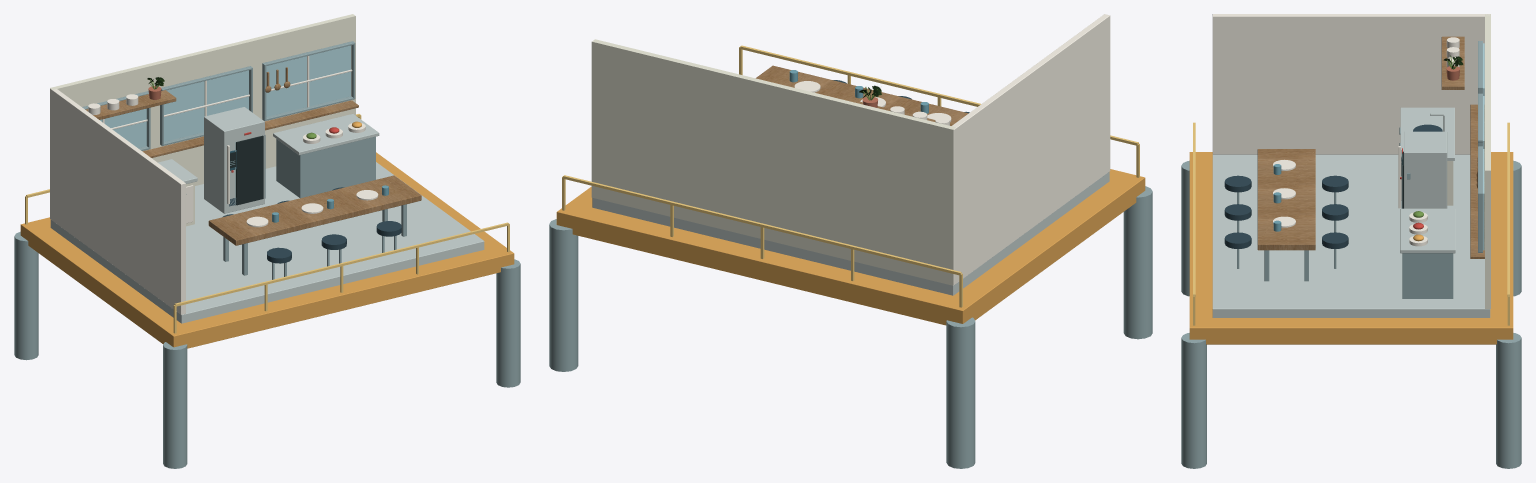
The model's file is interior-oil-rig.glb.
The picture shows the model from 3 angles, left to right: view 1: azimuth 30°, elevation 25°; view 2: azimuth 150°, elevation 25°; view 3: azimuth 270°, elevation 25°; orthographic projection. The views are drawn at different scales.
Parts seen in each view (by area): view 1: room__silver, room__white, room__steel, room__orange, room__chalk, room__glass-light, room__wood, room__yellow, room__black, room__dark; view 2: room__chalk, room__white, room__orange, room__steel, room__silver, room__yellow, room__wood; view 3: room__white, room__silver, room__orange, room__steel, room__wood, room__dark, room__chalk, room__yellow, room__glass-light.
Part boxes in pixels (left/top/right/bottom): room__silver: left=50, top=107, right=484, bottom=323; room__white: left=50, top=56, right=378, bottom=314; room__steel: left=14, top=41, right=520, bottom=468; room__orange: left=20, top=121, right=514, bottom=348; room__chalk: left=50, top=14, right=355, bottom=226; room__glass-light: left=100, top=45, right=350, bottom=165; room__wood: left=85, top=67, right=421, bottom=245; room__yellow: left=25, top=114, right=509, bottom=333; room__black: left=230, top=135, right=263, bottom=205; room__dark: left=222, top=187, right=401, bottom=263; room__chalk: left=591, top=39, right=955, bottom=285; room__white: left=794, top=14, right=1110, bottom=285; room__orange: left=556, top=169, right=1145, bottom=325; room__steel: left=549, top=186, right=1152, bottom=468; room__silver: left=592, top=171, right=1109, bottom=295; room__yellow: left=562, top=45, right=1139, bottom=307; room__wood: left=756, top=65, right=968, bottom=125; room__white: left=1212, top=14, right=1489, bottom=246; room__silver: left=1212, top=107, right=1490, bottom=317; room__orange: left=1189, top=152, right=1513, bottom=344; room__steel: left=1181, top=41, right=1521, bottom=468; room__wood: left=1257, top=36, right=1484, bottom=258; room__dark: left=1224, top=124, right=1442, bottom=248; room__chalk: left=1447, top=14, right=1490, bottom=308; room__yellow: left=1193, top=122, right=1509, bottom=325; room__glass-light: left=1483, top=43, right=1484, bottom=250.
Bounding box in the file's own units: 9.36 × 6.86 × 7.36.
16 materials, 2 textured.
